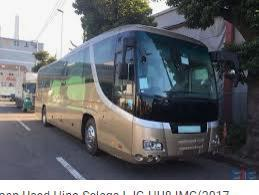bus: (35, 23, 226, 165)
